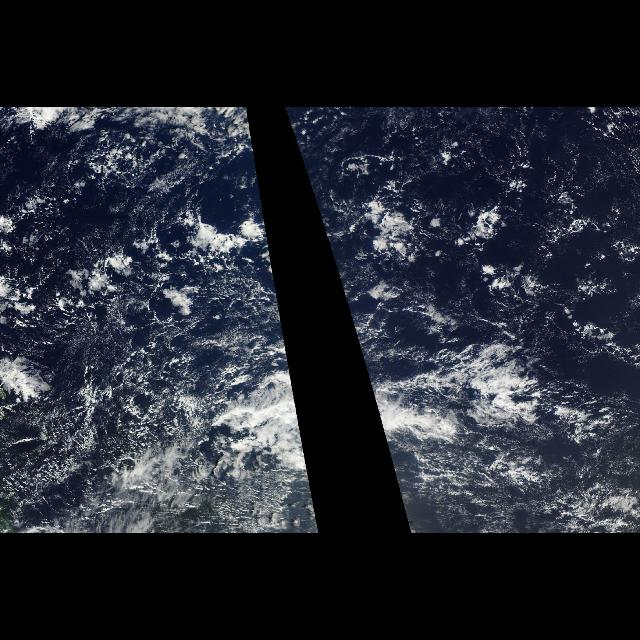Fish: (354, 330, 558, 476), (226, 330, 310, 476)
Gravel: (2, 111, 292, 527), (285, 118, 637, 386)
